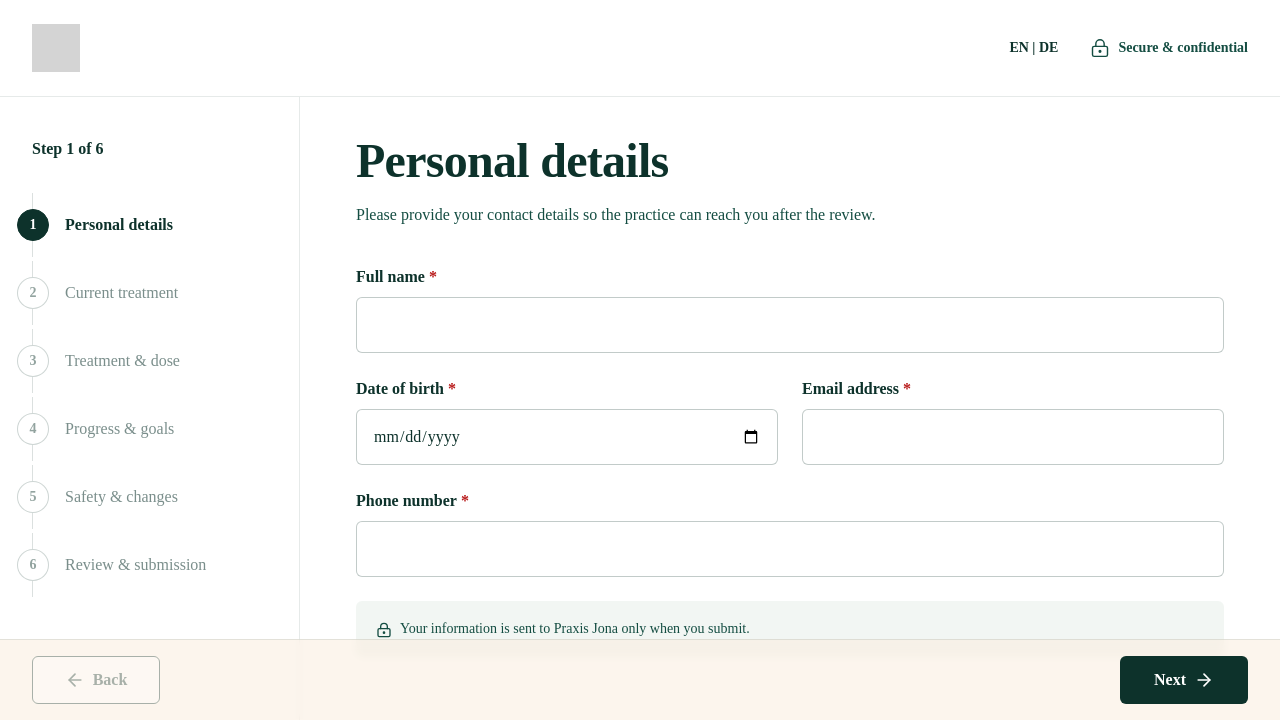
Test: GLP-1 public pages › keeps a dose request as free text in the follow-up flow
The width and height of the screenshot is (1280, 720).
Type "Jane Patient" into the field labelled "Full name" at (790, 325), box [356,297,1224,353]
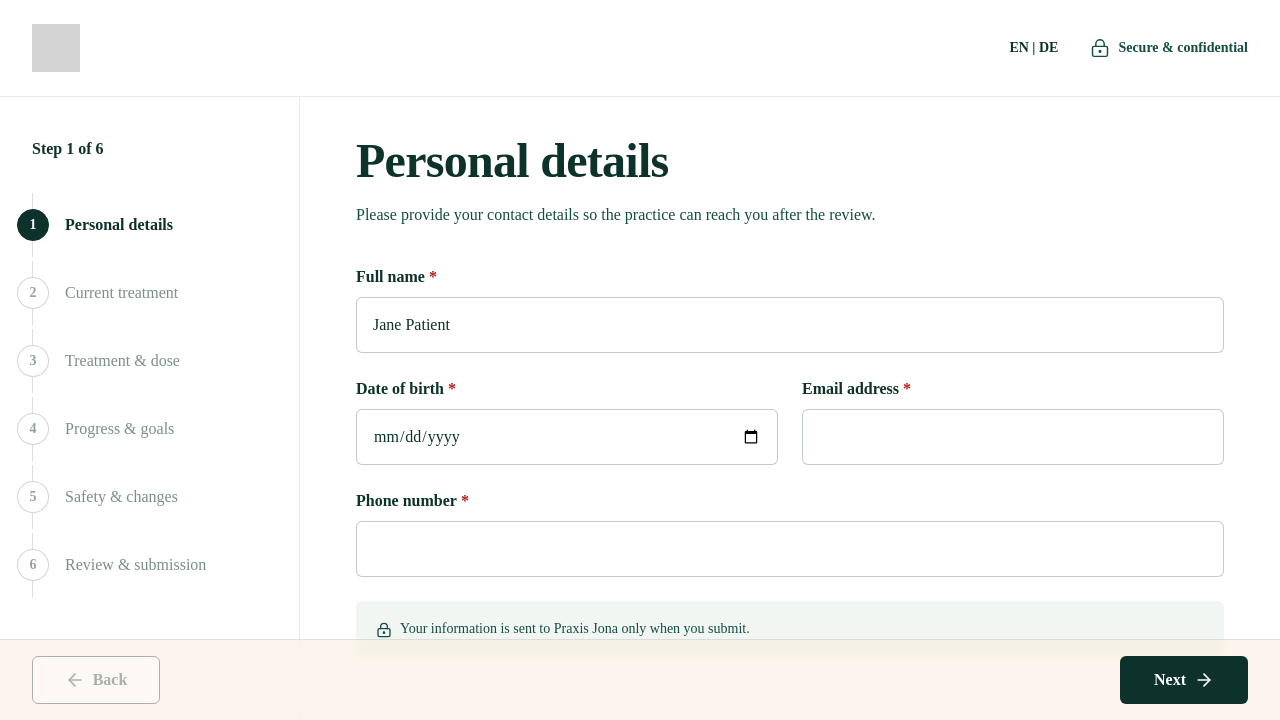
Type "1988-03-20" into the date field labelled "Date of birth" at (567, 437), box [356,409,778,465]
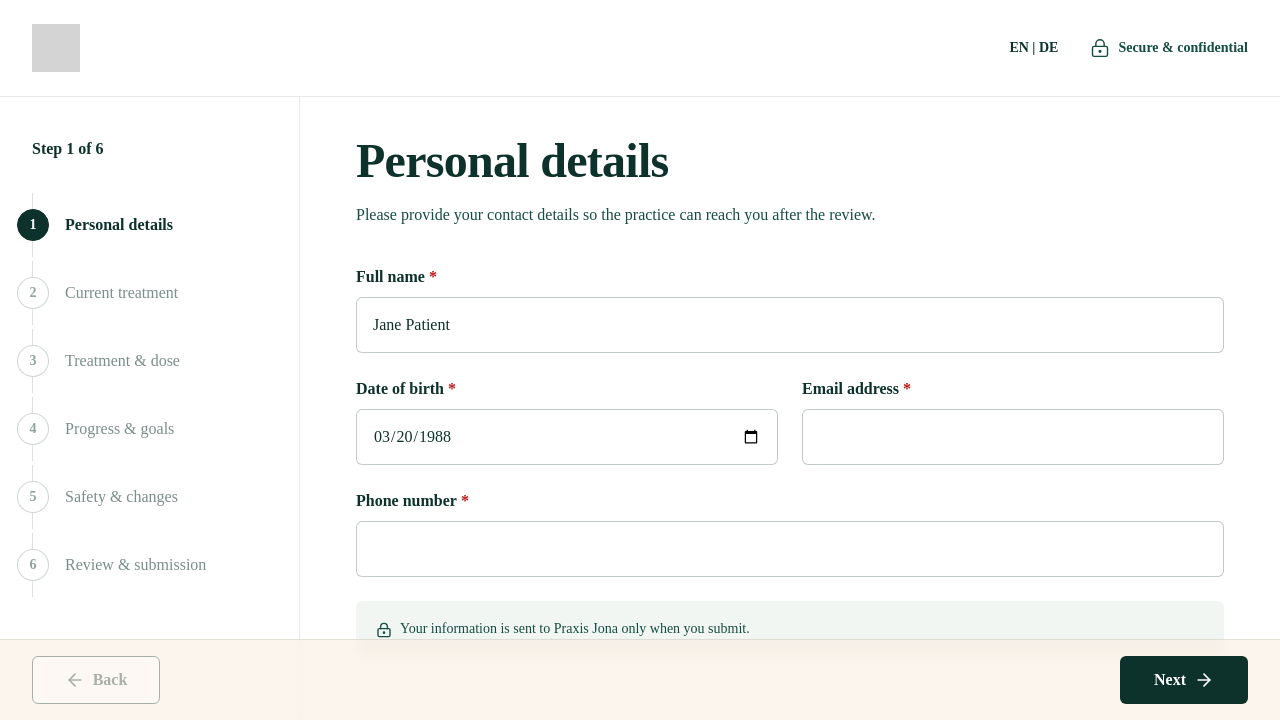
Type "jane@example.com" into the field labelled "Email address" at (1013, 437), box [802,409,1224,465]
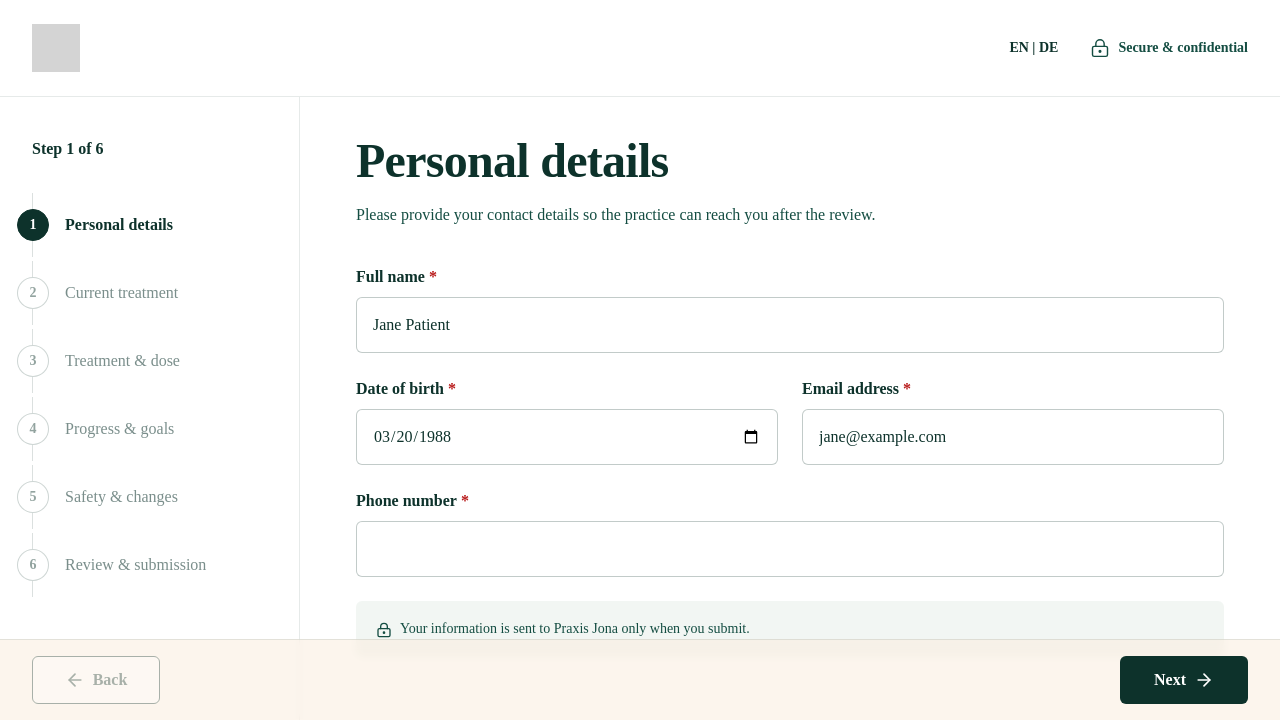
Type "+49 30 7654321" into the field labelled "Phone number" at (790, 549), box [356,521,1224,577]
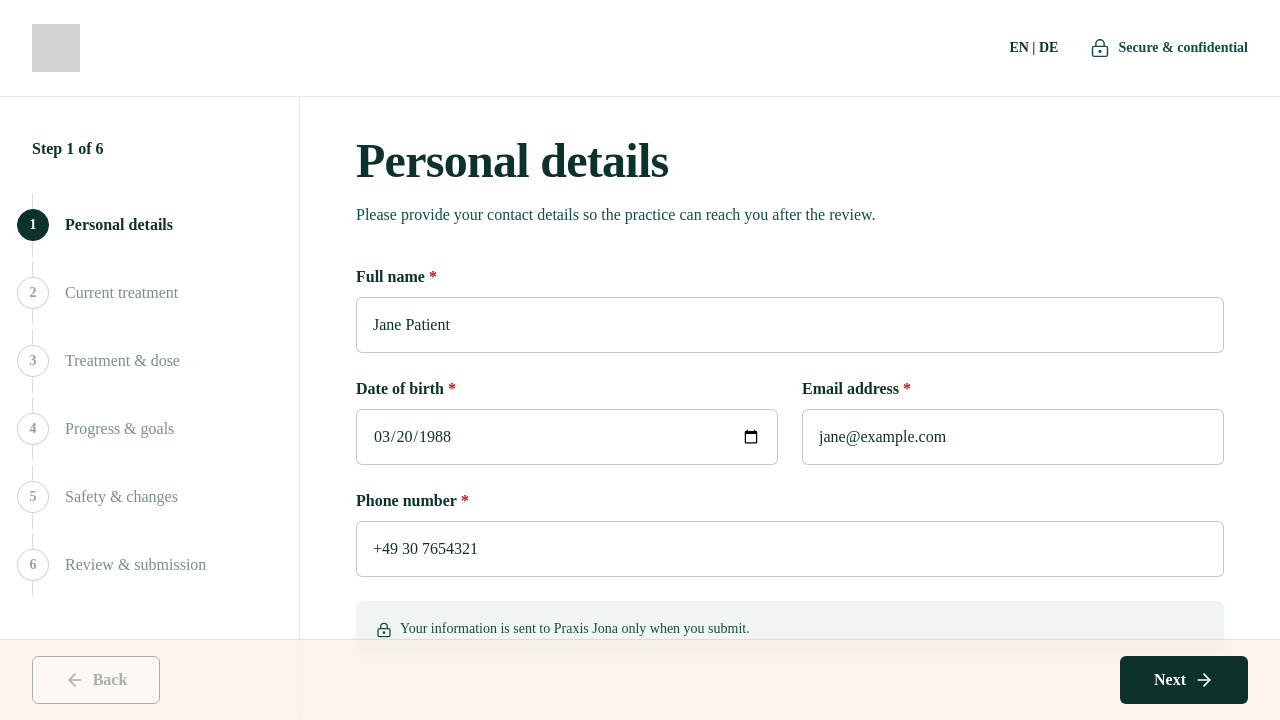
Click the button "Next" at (1184, 680), box [1120,656,1248,704]
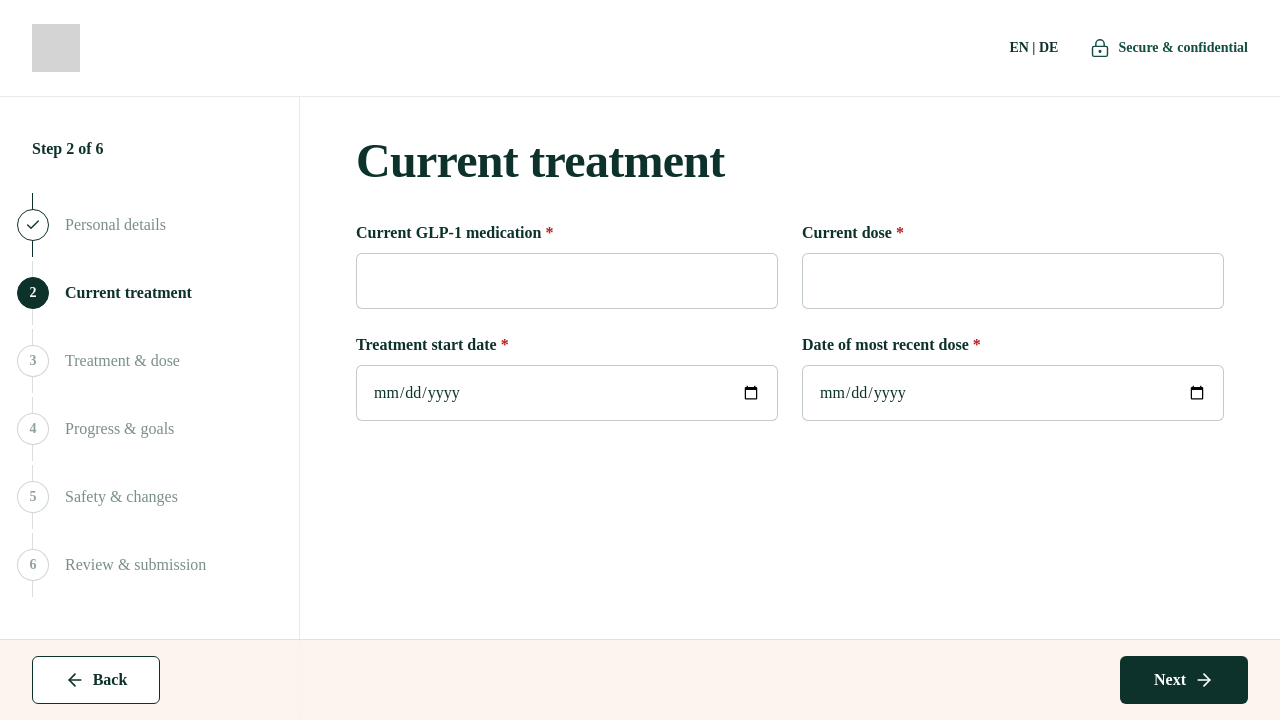
Check: the heading "Current treatment" is shown, box [356,134,724,187]
